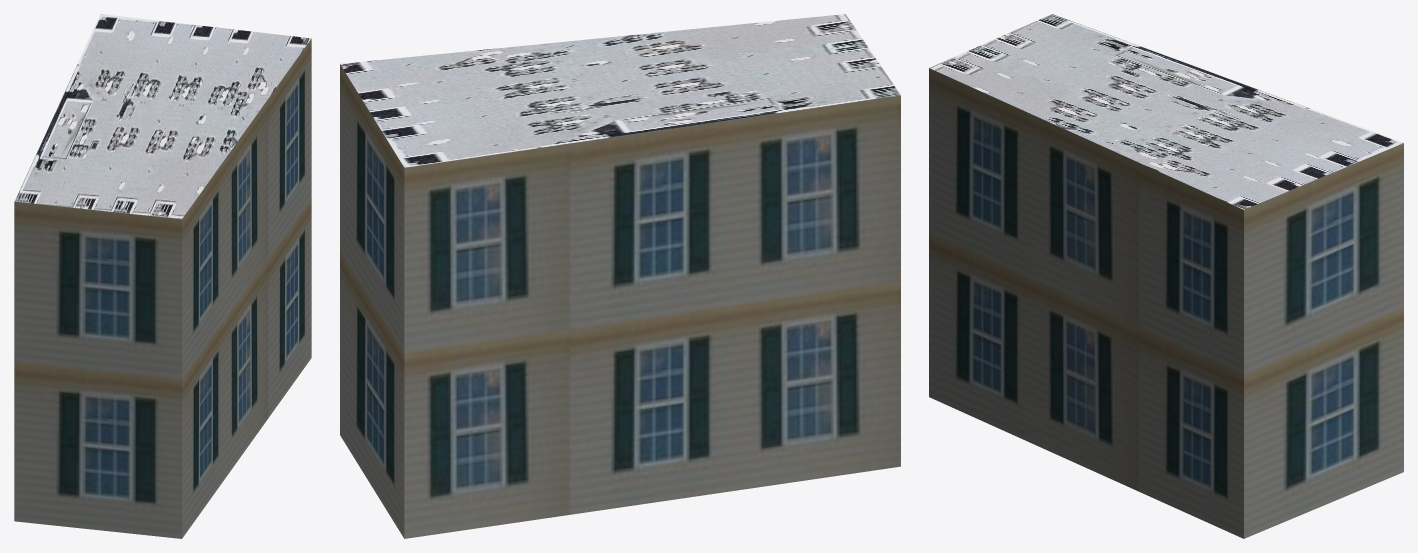
The model's file is ResTex__1463.fbx.
3 renders of one model, left to right at view 1: azimuth 30°, elevation 25°; view 2: azimuth 150°, elevation 25°; view 3: azimuth 270°, elevation 25°, orthographic. The views are drawn at different scales.
Visible parts, largest first — view 1: CityEngineMaterial_7_m, CityEngineMaterial_8_m; view 2: CityEngineMaterial_7_m, CityEngineMaterial_8_m; view 3: CityEngineMaterial_7_m, CityEngineMaterial_8_m.
Boxes of the visible parts, bbox=[...] form: CityEngineMaterial_7_m: bbox=[14, 38, 311, 538]; CityEngineMaterial_8_m: bbox=[14, 14, 311, 219]; CityEngineMaterial_7_m: bbox=[340, 64, 900, 538]; CityEngineMaterial_8_m: bbox=[340, 14, 900, 167]; CityEngineMaterial_7_m: bbox=[929, 68, 1403, 538]; CityEngineMaterial_8_m: bbox=[929, 14, 1403, 209].
Bounding box in the file's own units: 7.66 × 6 × 7.85.
2 materials, 2 textured.
